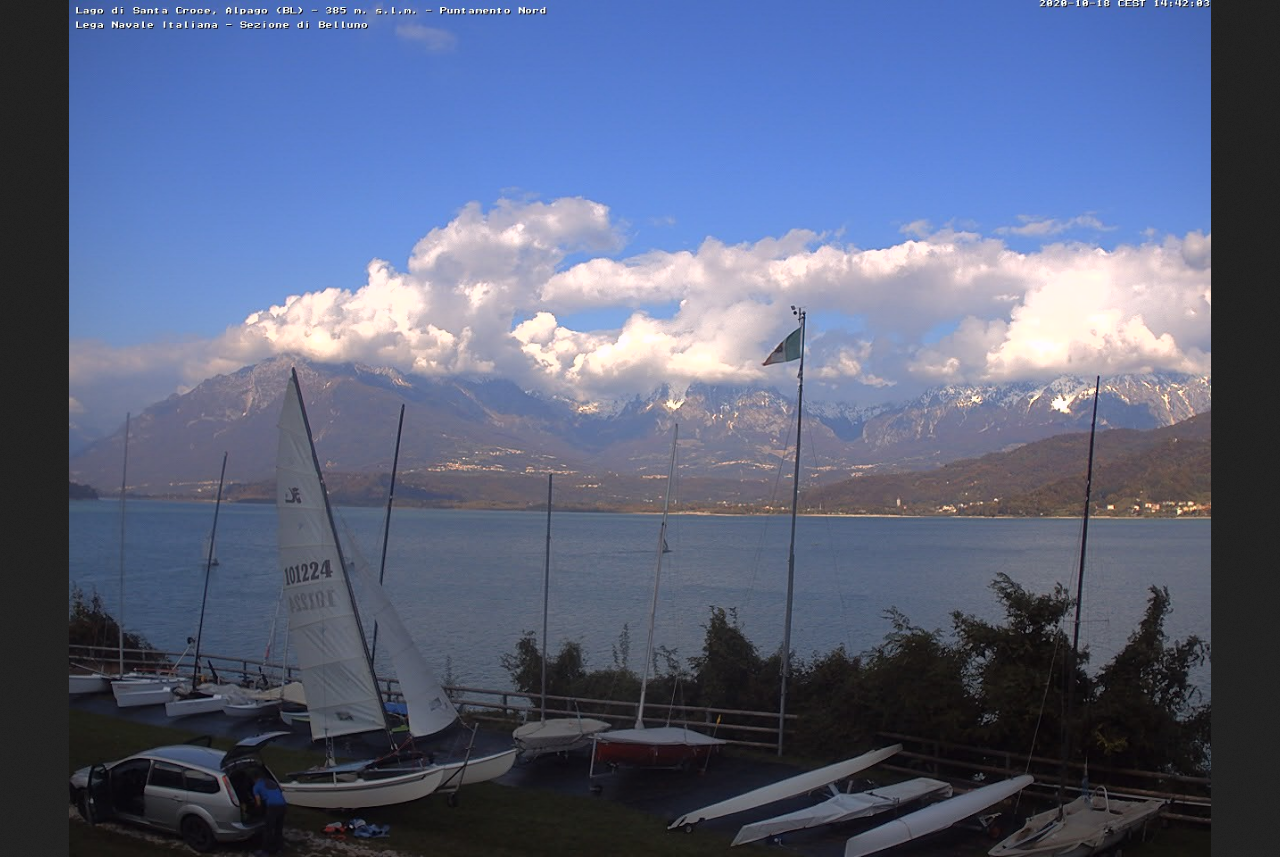maybe: (760, 327, 801, 368)
